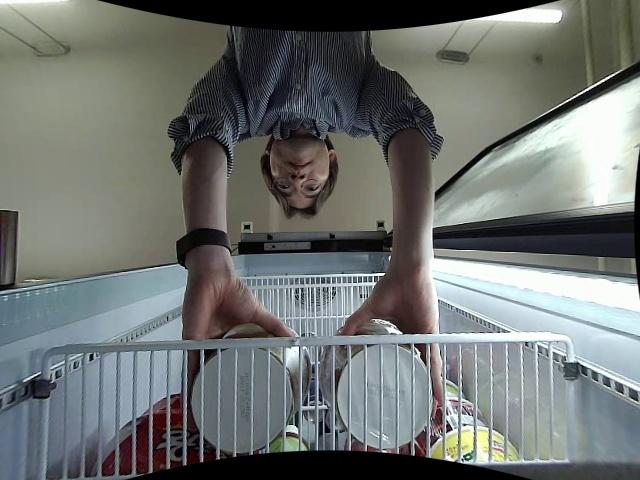00_hand: (179, 278, 298, 419), (342, 276, 443, 410)
03_chapagetti_L: (185, 325, 306, 452), (320, 318, 431, 450)
